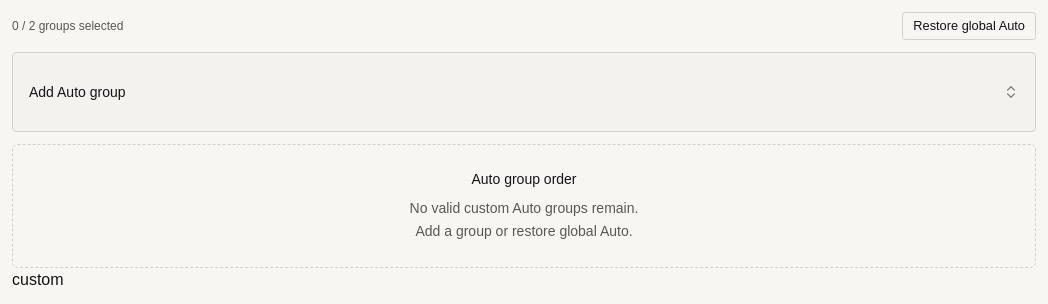
Auto group order editor › keeps an empty custom order distinct from global inheritance
Expected: the text with test id "mode" reads "custom", [12, 270, 64, 288]
Click the button "Restore global Auto" at (969, 26), box [902, 12, 1036, 40]
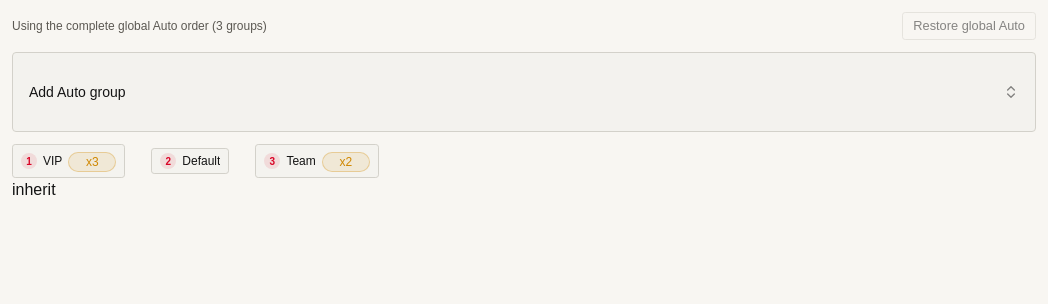
Expected: the text with test id "mode" reads "inherit", [12, 181, 56, 198]
Expected: the list is shown, [12, 144, 379, 178]
